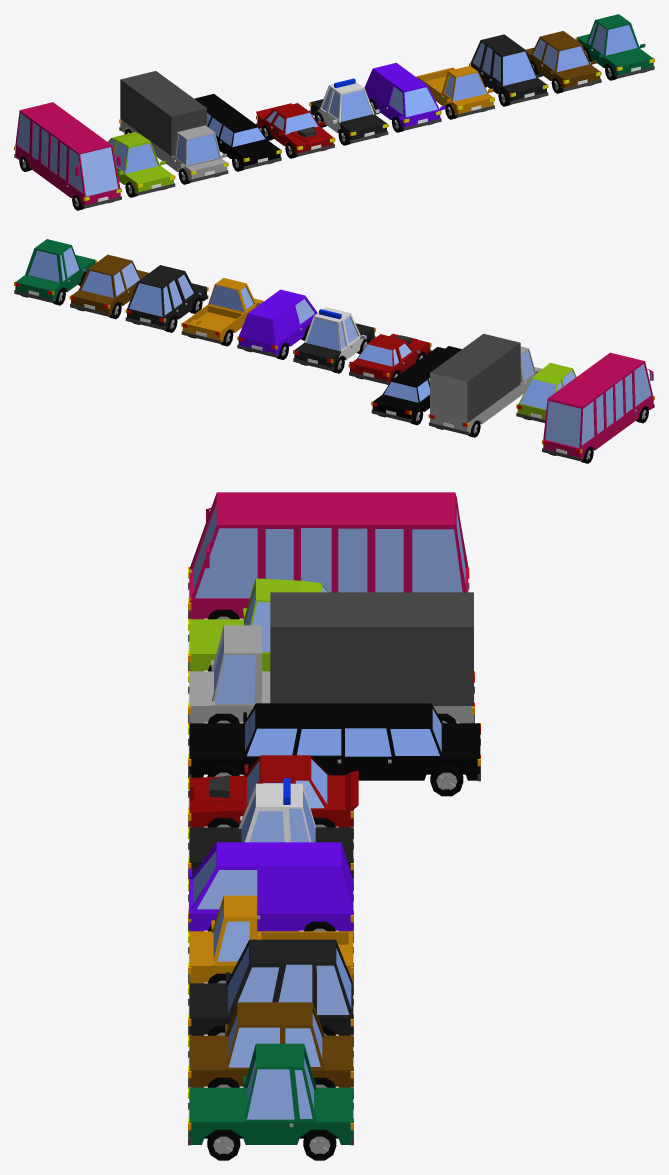
The model's file is Vehicles.fbx.
The picture shows the model from 3 angles, top to bottom: view 1: azimuth 30°, elevation 25°; view 2: azimuth 150°, elevation 25°; view 3: azimuth 270°, elevation 25°; orthographic projection. The views are drawn at different scales.
Parts seen in each view (by area): view 1: Bus, Truck, Car6, Car3, Car9, Car7, Car1, Car2, Car8, Car10, Car5; view 2: Bus, Truck, Car6, Car3, Car7, Car1, Car5, Car2, Car9, Car8, Car10; view 3: Truck, Bus, Car9, Car1, Car6, Car3, Car2, Car8, Car7, Car5, Car10.
Part boxes in pixels (x1,y1,x2,y2): Bus: (14, 102, 121, 210); Truck: (119, 71, 228, 184); Car6: (364, 62, 445, 132); Car3: (469, 34, 548, 106); Car9: (194, 94, 281, 171); Car7: (309, 78, 388, 145); Car1: (575, 14, 654, 80); Car2: (526, 31, 601, 93); Car8: (256, 103, 335, 158); Car10: (108, 132, 175, 197); Car5: (416, 66, 494, 119); Bus: (542, 352, 654, 463); Truck: (428, 333, 541, 437); Car6: (237, 289, 317, 359); Car3: (125, 265, 208, 332); Car7: (293, 307, 375, 373); Car1: (14, 239, 96, 305); Car5: (181, 278, 263, 346); Car2: (69, 254, 148, 319); Car9: (371, 346, 461, 425); Car8: (348, 333, 431, 385); Car10: (516, 362, 576, 422); Truck: (188, 592, 474, 723); Bus: (188, 492, 469, 619); Car9: (188, 703, 480, 796); Car1: (188, 1043, 353, 1160); Car6: (188, 842, 353, 931); Car3: (188, 939, 353, 1035); Car2: (188, 1002, 353, 1087); Car8: (188, 755, 358, 827); Car7: (188, 778, 353, 878); Car5: (188, 895, 353, 983); Car10: (188, 578, 328, 671).
Size of the model in its own units: 32.55 by 3.15 by 7.15.
1 material, 1 textured.
